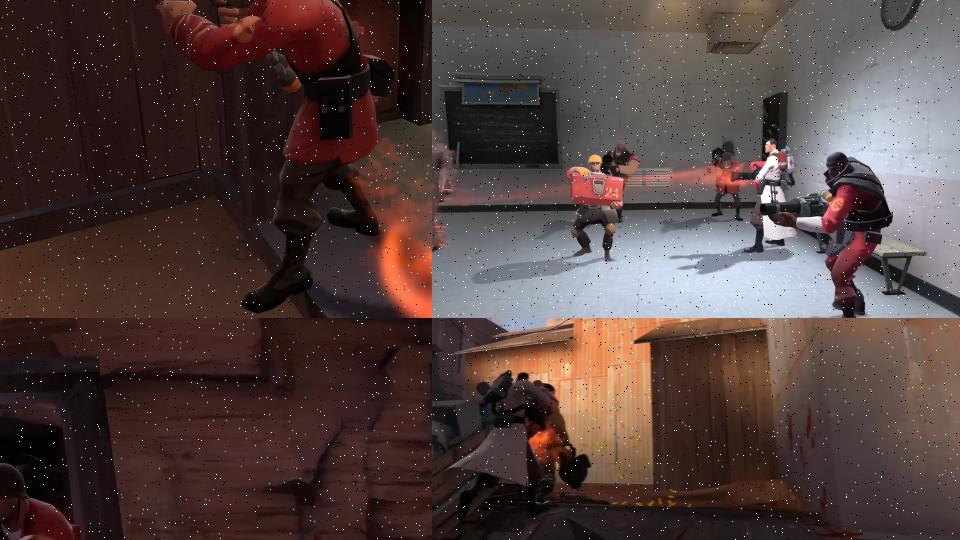Enemy: (117, 0, 401, 310), (757, 147, 899, 318), (440, 370, 553, 524), (728, 135, 801, 258), (564, 154, 626, 265), (432, 134, 464, 255), (597, 138, 641, 225), (705, 149, 747, 225)
